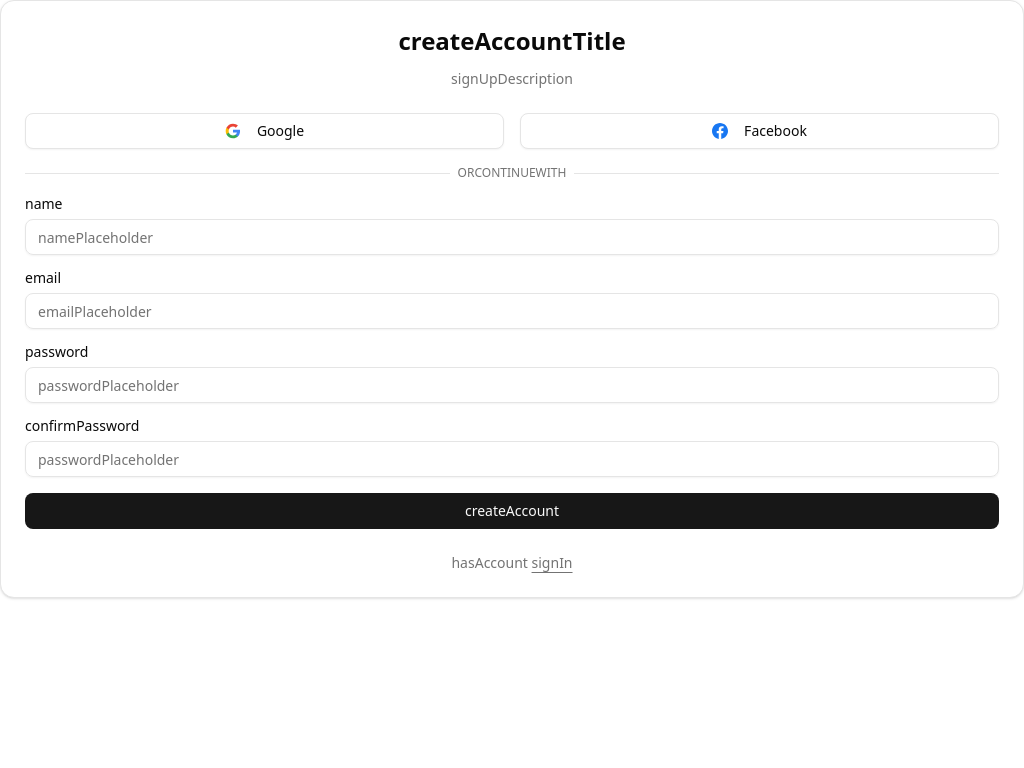
SignUpPage › Form Validation › shows error when passwords do not match
The image size is (1024, 768).
Type "Test User" into the field with test id "name-input" at (512, 237), box [25,219,999,255]
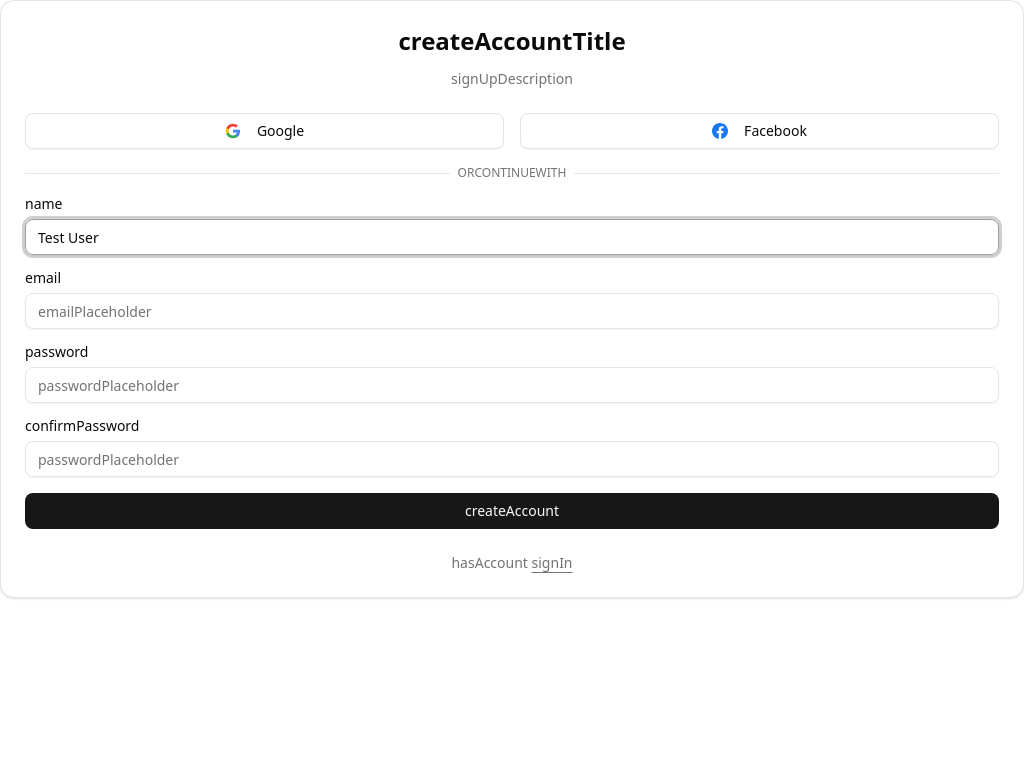
Type "test@example.com" into the field with test id "email-input" at (512, 311), box [25,293,999,329]
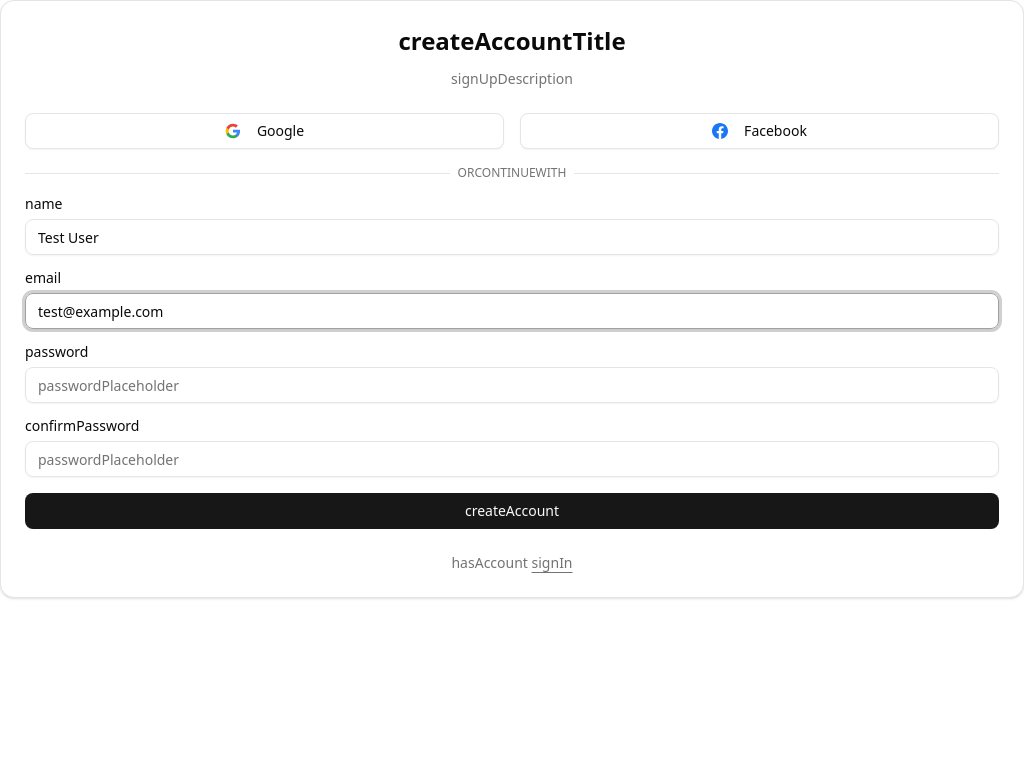
Type "password123" into the password field with test id "password-input" at (512, 385), box [25,367,999,403]
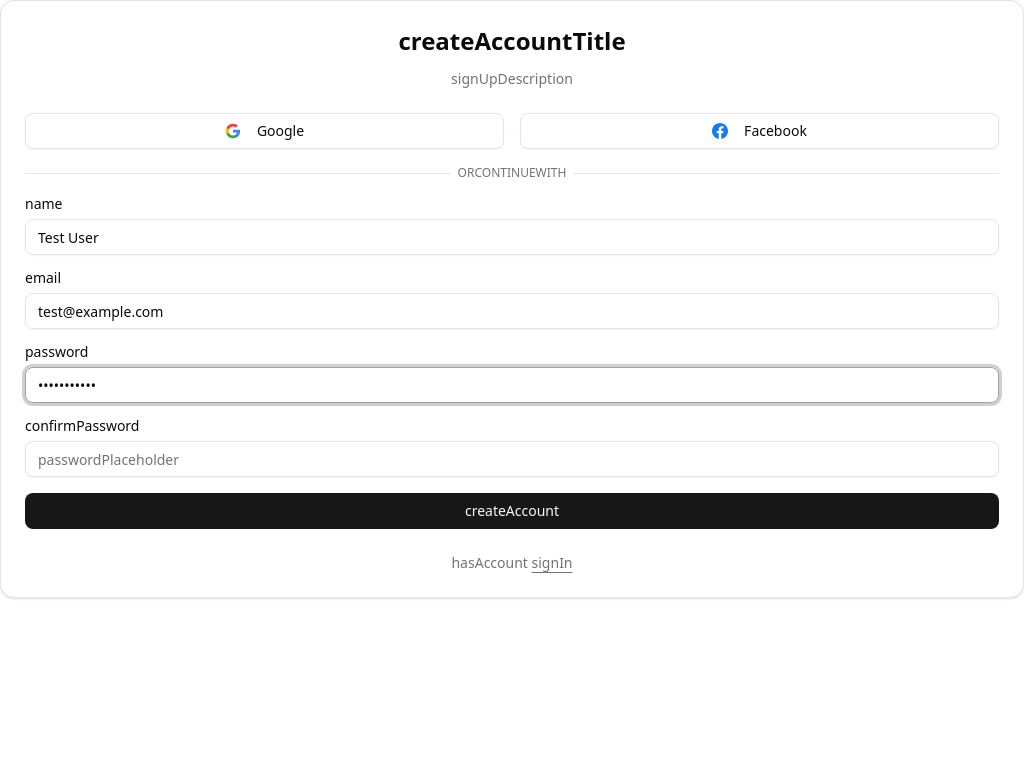
Type "differentpassword" into the password field with test id "confirm-password-input" at (512, 459), box [25,441,999,477]
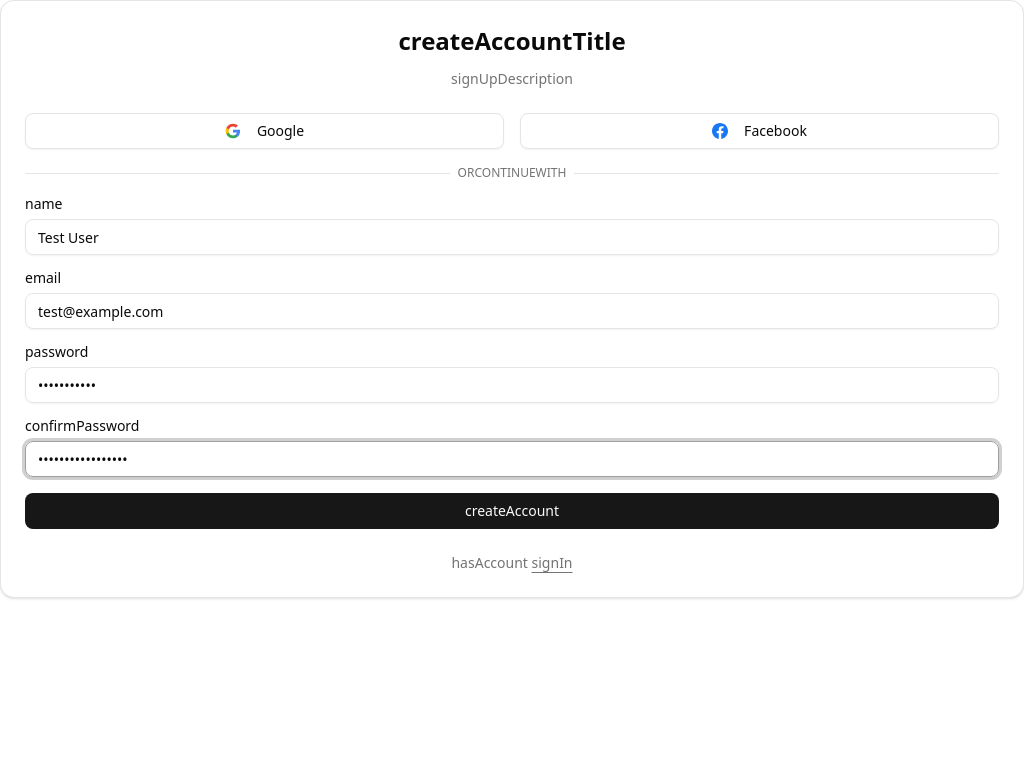
Click the button with test id "signup-submit" at (512, 511), box [25,493,999,529]
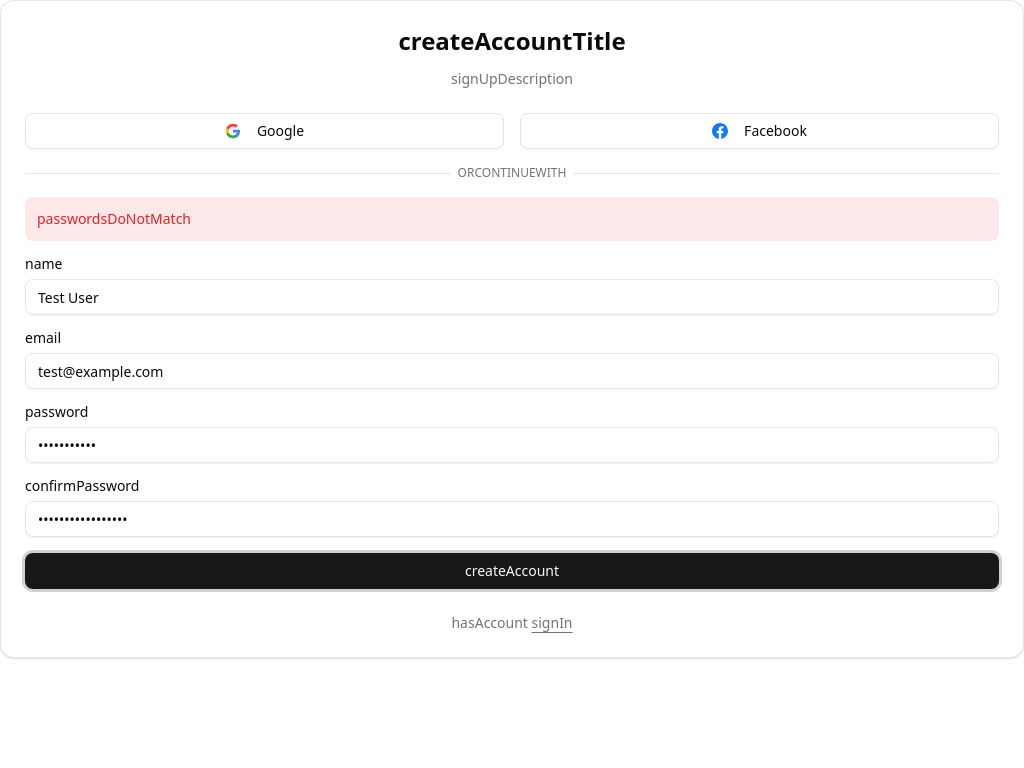
Expected: the text with test id "signup-error" reads "passwordsDoNotMatch", [37,209,191,228]
